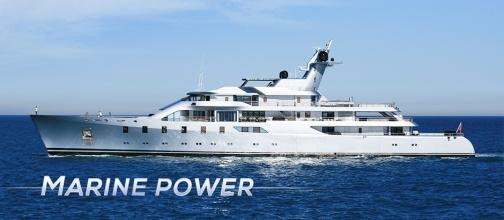yacht: (30, 59, 466, 156)
